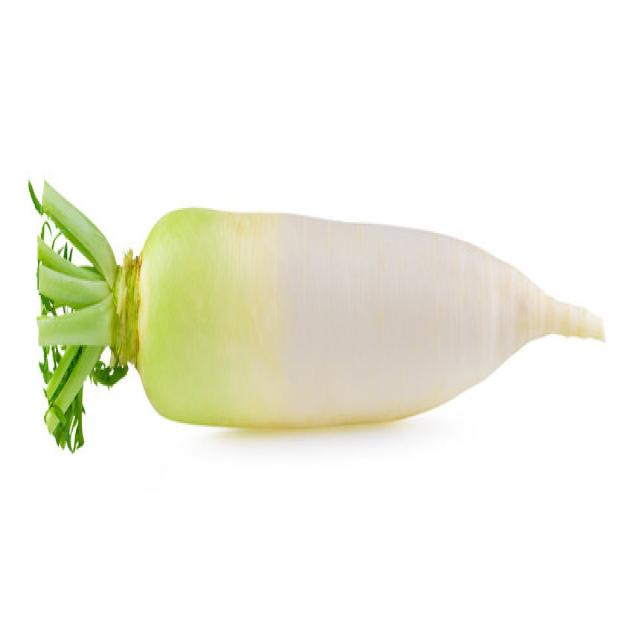Coriander Leaves: (28, 174, 128, 452)
Radish: (28, 174, 606, 448)
